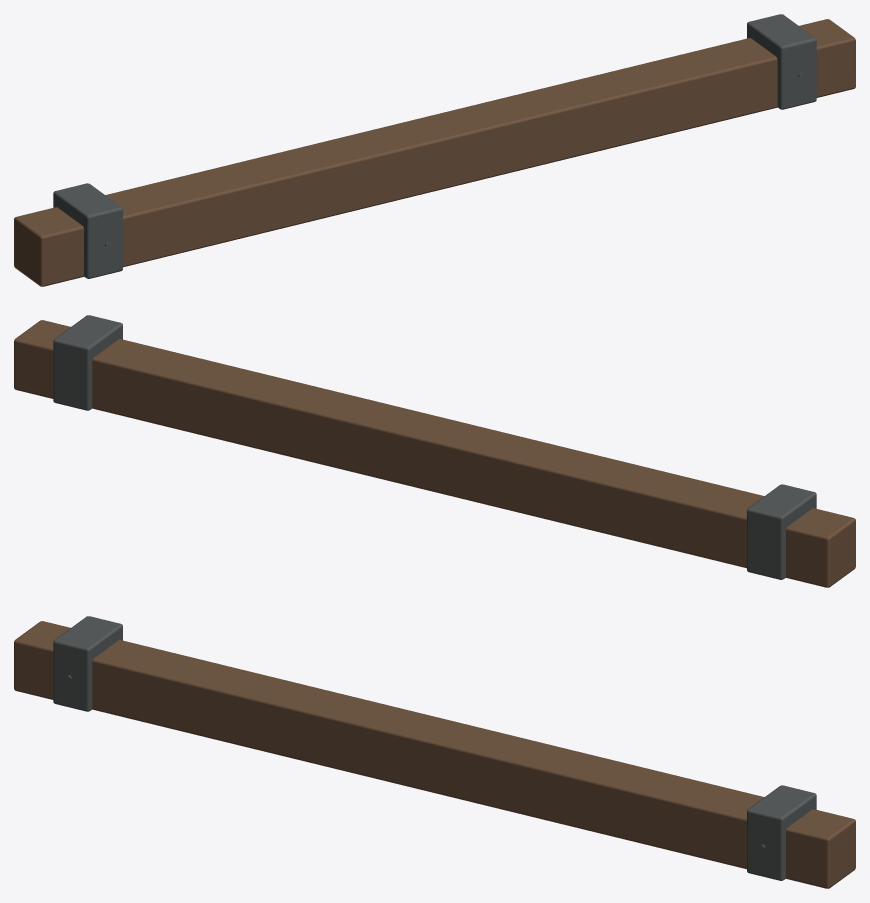
File: adventurers-tavern-and-guild-hall-roof-beam-c758c824__24676.glb
The picture shows the model from 3 angles, top to bottom: view 1: azimuth 30°, elevation 25°; view 2: azimuth 150°, elevation 25°; view 3: azimuth 330°, elevation 25°; orthographic projection.
Visible parts, largest first — view 1: roof-beam; view 2: roof-beam; view 3: roof-beam.
Boxes of the visible parts, x1,y1,x2,y2 form: roof-beam: (14,14,855,286); roof-beam: (14,315,855,587); roof-beam: (14,616,855,888).
Size of the model in its own units: 4 by 0.2998 by 0.319.
